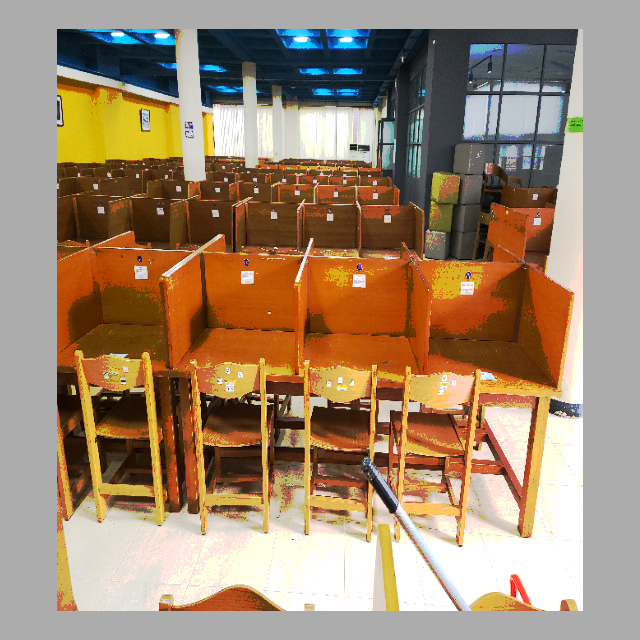empty: (431, 248, 570, 456), (164, 249, 299, 446), (306, 245, 426, 450)
